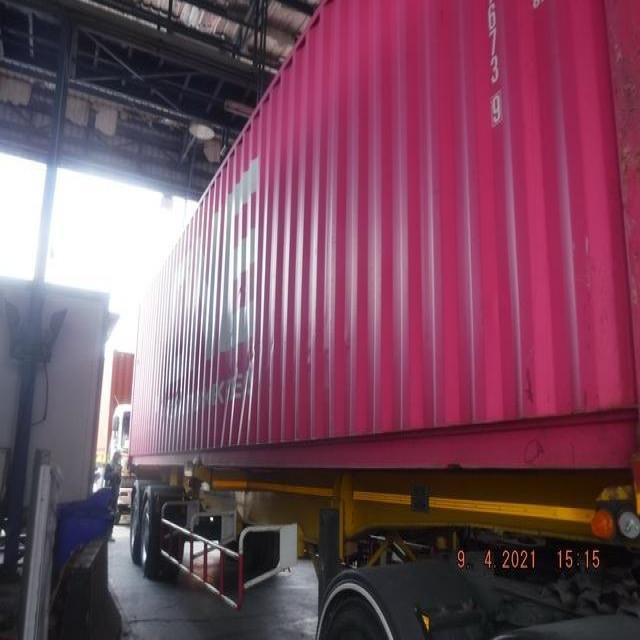Dent: (215, 324, 263, 411)
